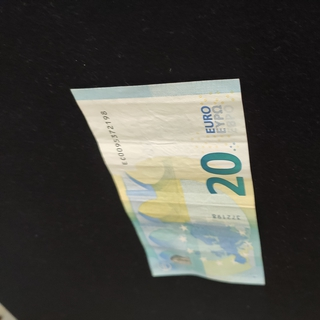20EUROBack: (70, 77, 266, 286)
